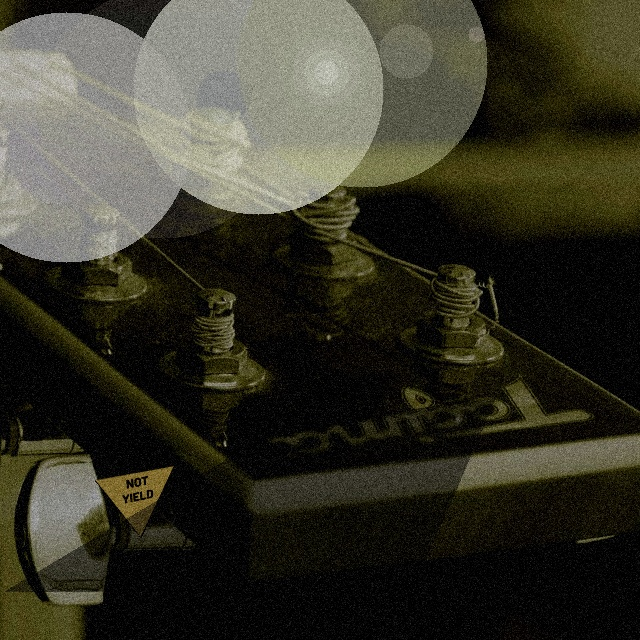NOT_YIELD: (94, 465, 175, 538)
